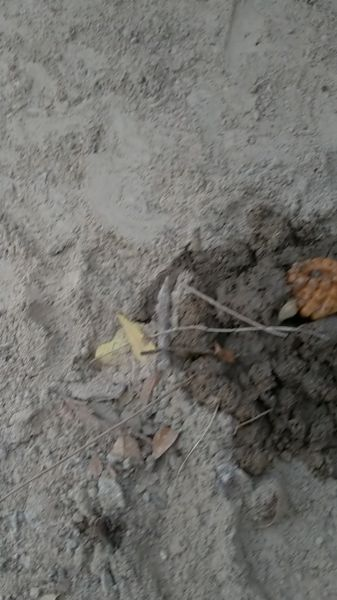eggs: (280, 254, 337, 326)
